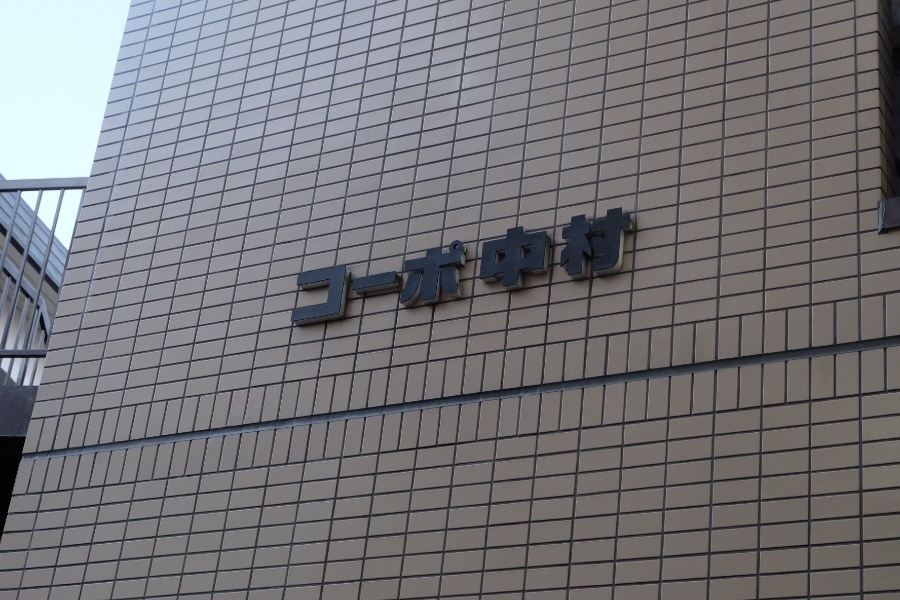text: (305, 202, 320, 330), (321, 202, 336, 330), (337, 202, 352, 330), (353, 202, 368, 330), (369, 202, 384, 330), (385, 202, 400, 330), (401, 202, 416, 330), (417, 202, 432, 330), (433, 202, 448, 330), (449, 202, 464, 330), (465, 202, 480, 330), (481, 202, 496, 330), (497, 202, 512, 330), (513, 202, 528, 330), (529, 202, 544, 330), (545, 202, 560, 330), (561, 202, 576, 330), (577, 202, 592, 330), (593, 202, 608, 330), (609, 202, 624, 330), (625, 202, 637, 330), (294, 202, 304, 330)
